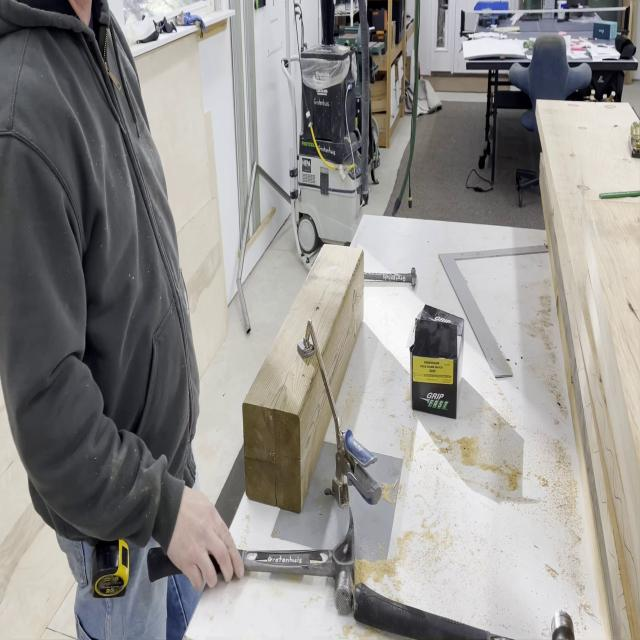hammer: (147, 504, 356, 616), (352, 580, 575, 640)
